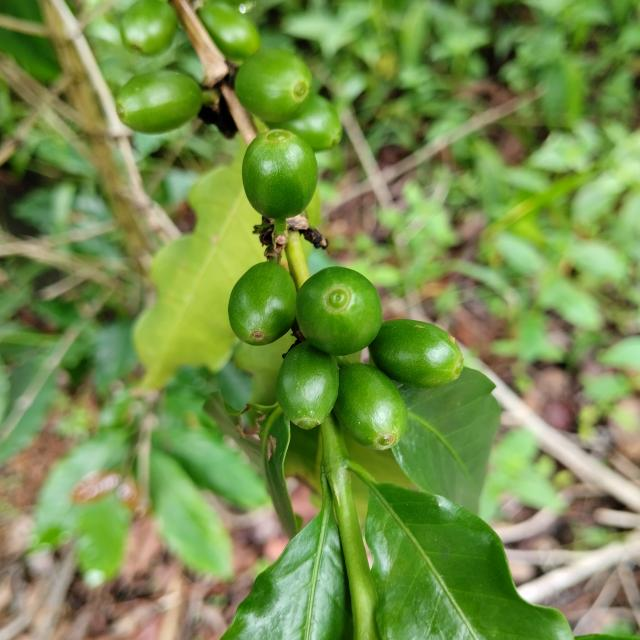green: (296, 266, 383, 356), (242, 129, 318, 218), (333, 363, 408, 451), (369, 319, 464, 388), (228, 261, 296, 346), (275, 341, 339, 430), (234, 48, 312, 121), (115, 69, 202, 133), (267, 92, 342, 151)
